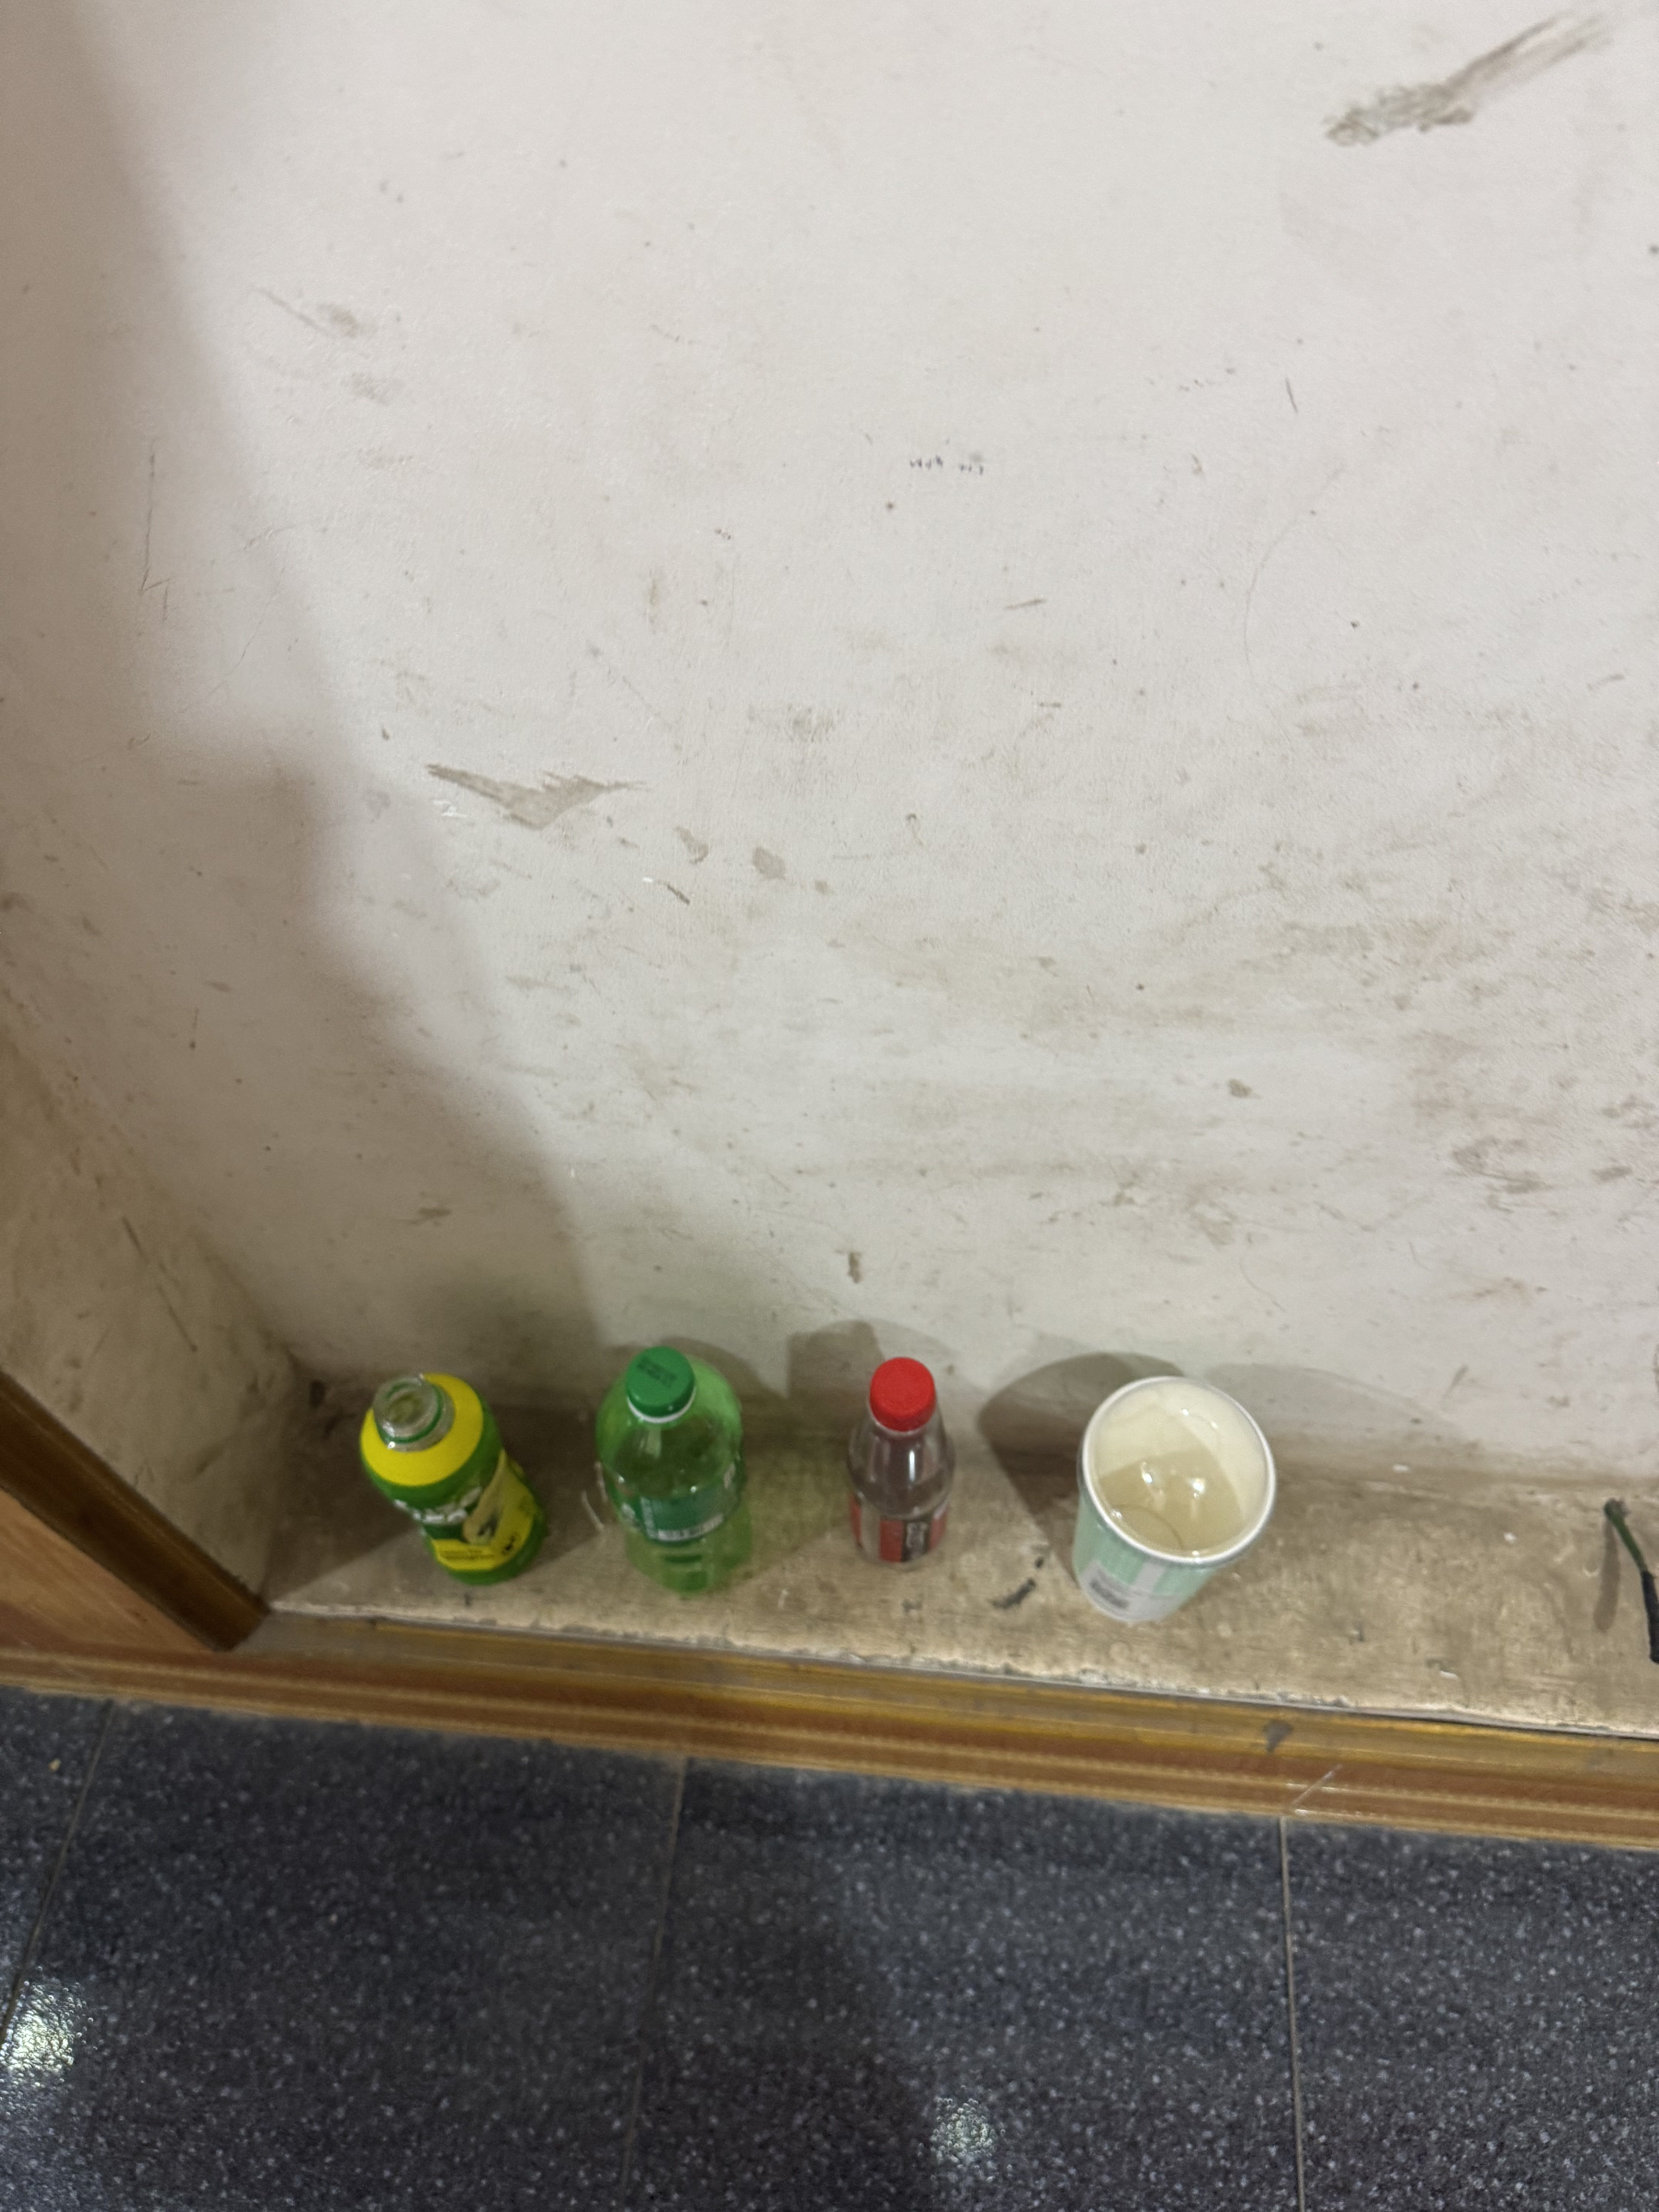2: (1028, 1355, 1302, 1667)
bottle: (321, 1355, 570, 1616), (582, 1331, 774, 1634), (823, 1336, 986, 1604)
